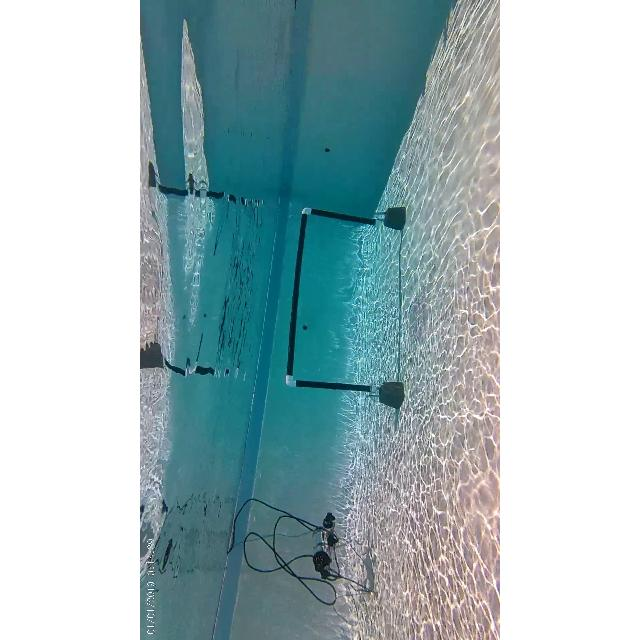prequal gate: (286, 206, 380, 394)
prequal gate leg l: (286, 374, 382, 398)
prequal gate leg r: (296, 206, 388, 234)
